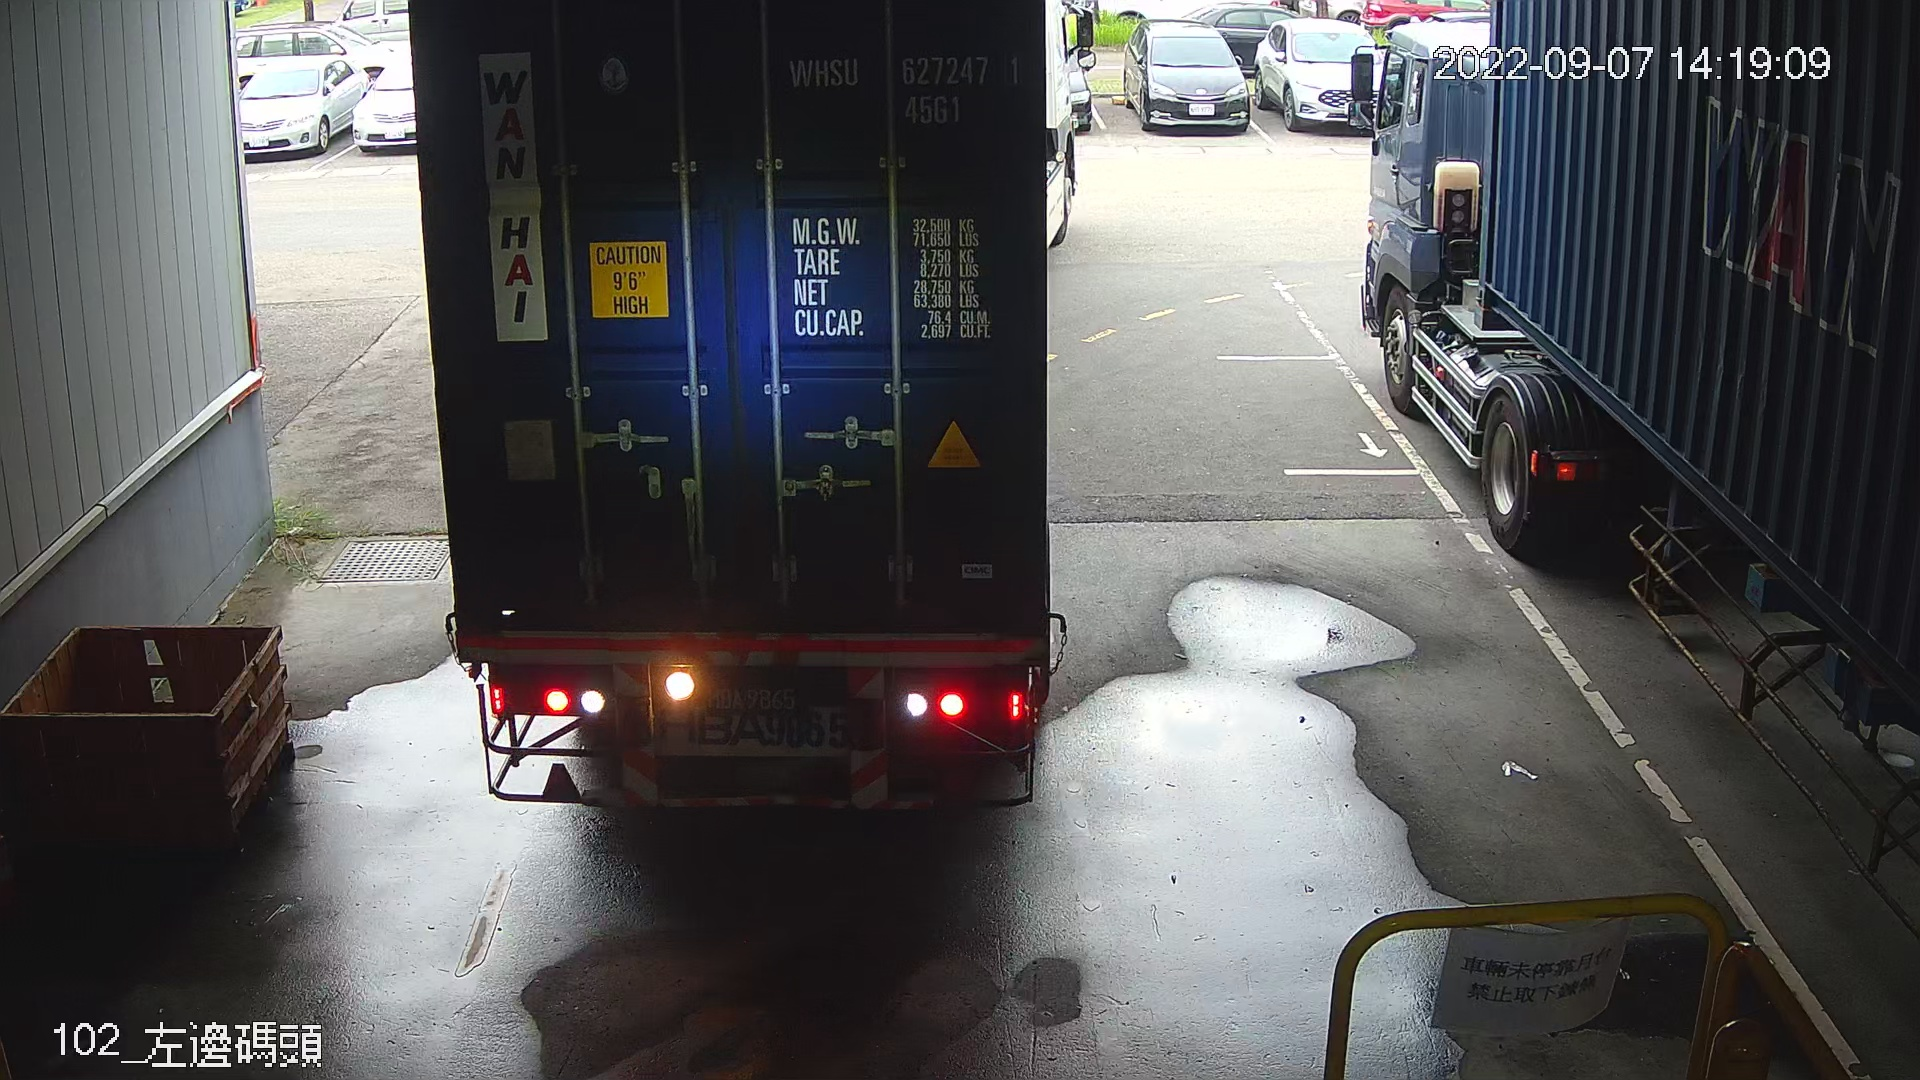container: (779, 42, 1029, 132)
